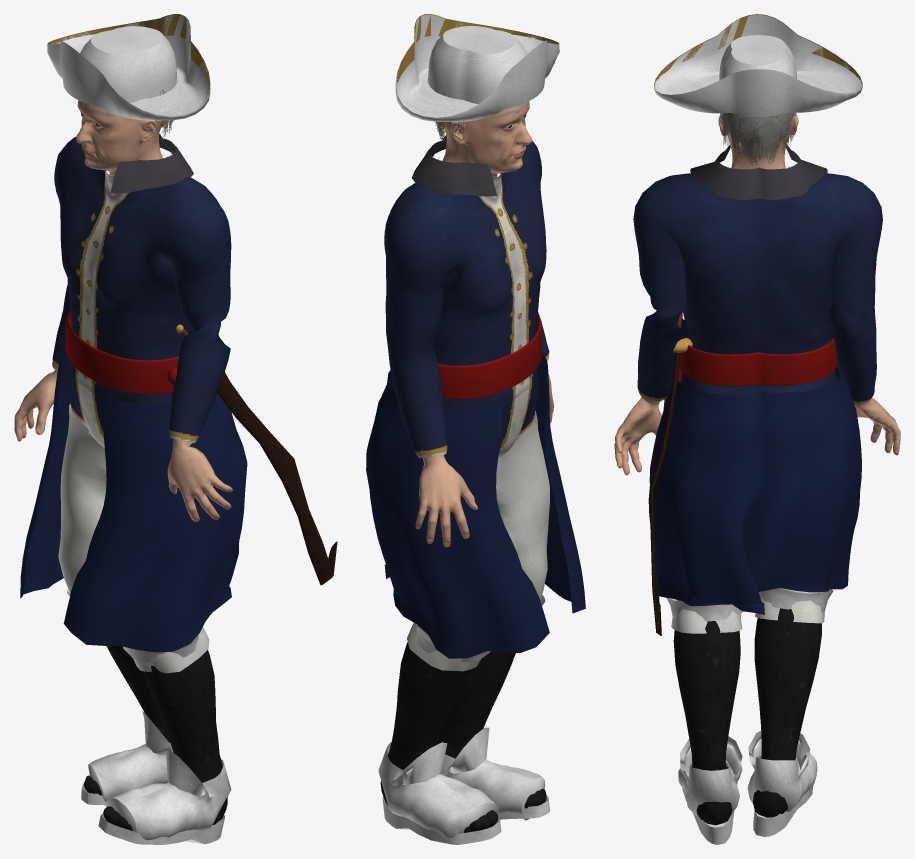
File: SM_Art_Person_herrera.gltf
3 renders of one model, left to right at view 1: azimuth 30°, elevation 25°; view 2: azimuth 150°, elevation 25°; view 3: azimuth 270°, elevation 25°, orthographic. The views are drawn at different scales.
Parts seen in each view (by area): view 1: SM_Art_Person_herrera; view 2: SM_Art_Person_herrera; view 3: SM_Art_Person_herrera.
Part boxes in pixels (x1,y1,x2,y2): SM_Art_Person_herrera: [14, 14, 337, 844]; SM_Art_Person_herrera: [366, 14, 585, 844]; SM_Art_Person_herrera: [614, 14, 900, 844].
Size of the model in its own units: 0.6089 by 1.92 by 0.645.
23 materials, 20 textured.
